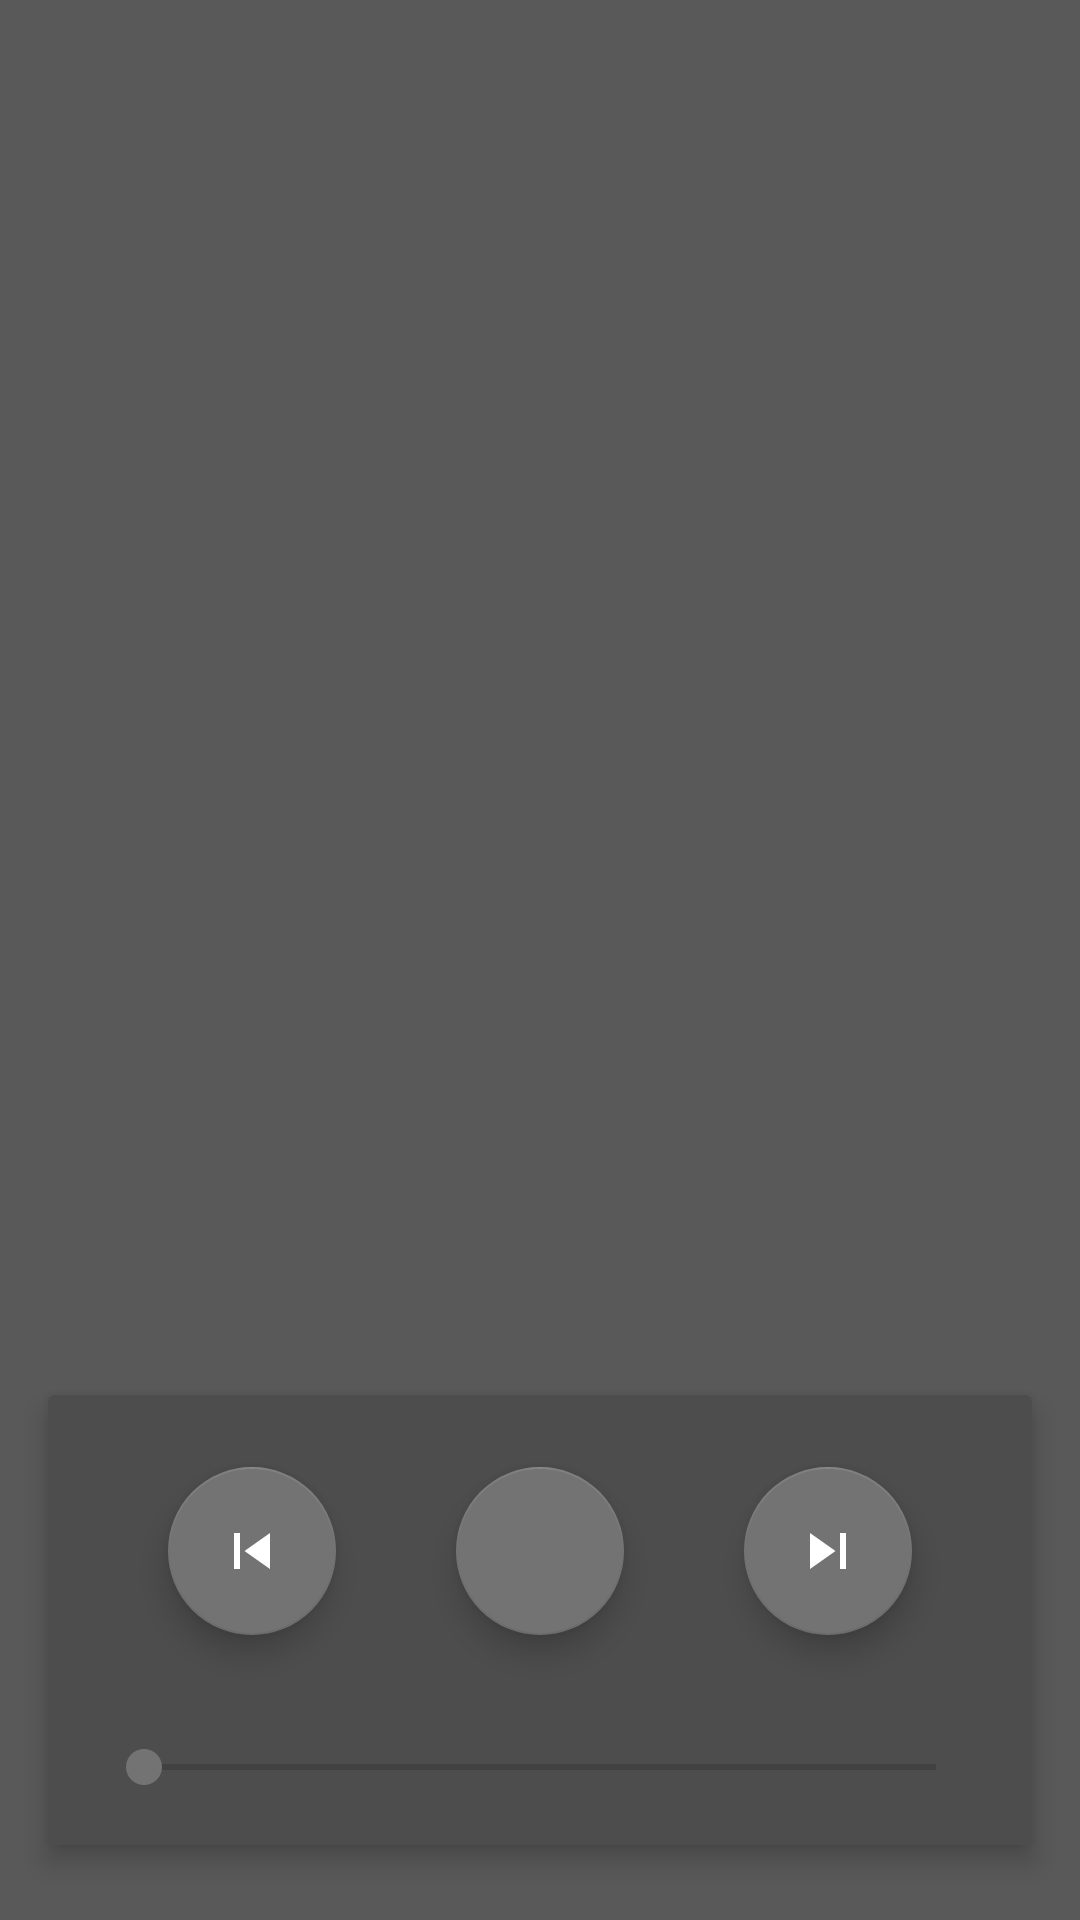

Locate icon controls on the screen. Image size 1080px×1920px, boxes as (x1, y1, x2, y2).
Next Button: (744, 1467, 912, 1635)
Previous Button: (168, 1467, 336, 1635)
